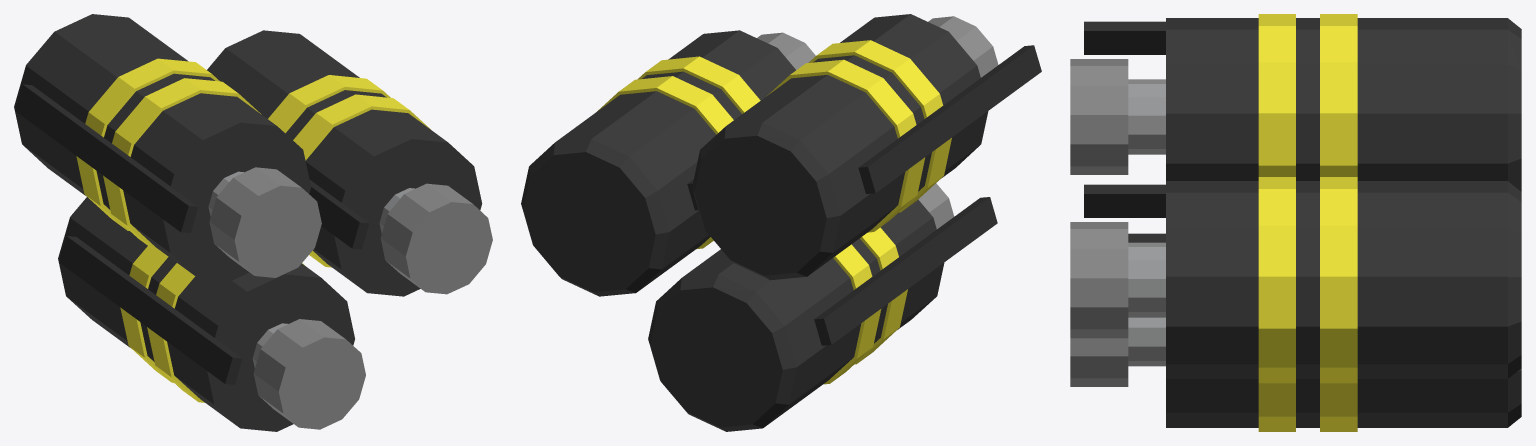
The model's file is ce_handgren_concussion_b.obj.
3 views of the same model, side by side, from view 1: azimuth 30°, elevation 25°; view 2: azimuth 150°, elevation 25°; view 3: azimuth 270°, elevation 25° (orthographic). The views are drawn at different scales.
Visible parts, largest first — view 1: ce_handgren_concussion_b_g0_body, ce_handgren_concussion_b_g1_body, ce_handgren_concussion_b_g2_body, ce_handgren_concussion_b_g1_head, ce_handgren_concussion_b_g0_head, ce_handgren_concussion_b_g2_head, ce_handgren_concussion_b_g2_spoon, ce_handgren_concussion_b_g0_spoon, ce_handgren_concussion_b_g0_band0, ce_handgren_concussion_b_g0_band1, ce_handgren_concussion_b_g1_band0, ce_handgren_concussion_b_g1_band1 (+3 smaller); view 2: ce_handgren_concussion_b_g0_body, ce_handgren_concussion_b_g1_body, ce_handgren_concussion_b_g2_body, ce_handgren_concussion_b_g2_spoon, ce_handgren_concussion_b_g0_spoon, ce_handgren_concussion_b_g0_band1, ce_handgren_concussion_b_g0_band0, ce_handgren_concussion_b_g1_band1, ce_handgren_concussion_b_g1_band0, ce_handgren_concussion_b_g2_band1, ce_handgren_concussion_b_g2_band0, ce_handgren_concussion_b_g0_head (+2 smaller); view 3: ce_handgren_concussion_b_g1_body, ce_handgren_concussion_b_g0_body, ce_handgren_concussion_b_g2_body, ce_handgren_concussion_b_g1_band1, ce_handgren_concussion_b_g1_band0, ce_handgren_concussion_b_g1_head, ce_handgren_concussion_b_g0_head, ce_handgren_concussion_b_g0_band0, ce_handgren_concussion_b_g0_band1, ce_handgren_concussion_b_g2_head, ce_handgren_concussion_b_g0_neck, ce_handgren_concussion_b_g1_neck (+5 smaller).
Part boxes in pixels (bbox=[...]): ce_handgren_concussion_b_g0_body: bbox=[14, 14, 311, 280]; ce_handgren_concussion_b_g1_body: bbox=[207, 30, 482, 296]; ce_handgren_concussion_b_g2_body: bbox=[58, 197, 354, 431]; ce_handgren_concussion_b_g1_head: bbox=[380, 183, 492, 294]; ce_handgren_concussion_b_g0_head: bbox=[209, 167, 321, 277]; ce_handgren_concussion_b_g2_head: bbox=[253, 319, 365, 429]; ce_handgren_concussion_b_g2_spoon: bbox=[59, 236, 242, 384]; ce_handgren_concussion_b_g0_spoon: bbox=[15, 84, 198, 233]; ce_handgren_concussion_b_g0_band0: bbox=[103, 78, 261, 250]; ce_handgren_concussion_b_g0_band1: bbox=[76, 58, 219, 230]; ce_handgren_concussion_b_g1_band0: bbox=[293, 94, 430, 267]; ce_handgren_concussion_b_g1_band1: bbox=[268, 75, 390, 133]; ce_handgren_concussion_b_g0_body: bbox=[692, 14, 988, 280]; ce_handgren_concussion_b_g1_body: bbox=[521, 30, 795, 296]; ce_handgren_concussion_b_g2_body: bbox=[648, 199, 944, 431]; ce_handgren_concussion_b_g2_spoon: bbox=[814, 197, 997, 345]; ce_handgren_concussion_b_g0_spoon: bbox=[858, 45, 1041, 193]; ce_handgren_concussion_b_g0_band1: bbox=[766, 59, 925, 232]; ce_handgren_concussion_b_g0_band0: bbox=[808, 40, 951, 212]; ce_handgren_concussion_b_g1_band1: bbox=[597, 76, 733, 248]; ce_handgren_concussion_b_g1_band0: bbox=[637, 56, 760, 113]; ce_handgren_concussion_b_g2_band1: bbox=[824, 244, 881, 384]; ce_handgren_concussion_b_g2_band0: bbox=[854, 227, 907, 364]; ce_handgren_concussion_b_g0_head: bbox=[928, 16, 998, 77]; ce_handgren_concussion_b_g1_body: bbox=[1166, 181, 1521, 378]; ce_handgren_concussion_b_g0_body: bbox=[1166, 18, 1521, 191]; ce_handgren_concussion_b_g2_body: bbox=[1166, 368, 1521, 427]; ce_handgren_concussion_b_g1_band1: bbox=[1320, 177, 1357, 383]; ce_handgren_concussion_b_g1_band0: bbox=[1258, 177, 1295, 383]; ce_handgren_concussion_b_g1_head: bbox=[1070, 222, 1128, 338]; ce_handgren_concussion_b_g0_head: bbox=[1070, 59, 1128, 174]; ce_handgren_concussion_b_g0_band0: bbox=[1258, 14, 1295, 176]; ce_handgren_concussion_b_g0_band1: bbox=[1320, 14, 1357, 176]; ce_handgren_concussion_b_g2_head: bbox=[1070, 338, 1128, 386]; ce_handgren_concussion_b_g0_neck: bbox=[1128, 79, 1165, 154]; ce_handgren_concussion_b_g1_neck: bbox=[1128, 242, 1165, 317].
Size of the model in its own units: 0.1654 by 0.1509 by 0.165.
